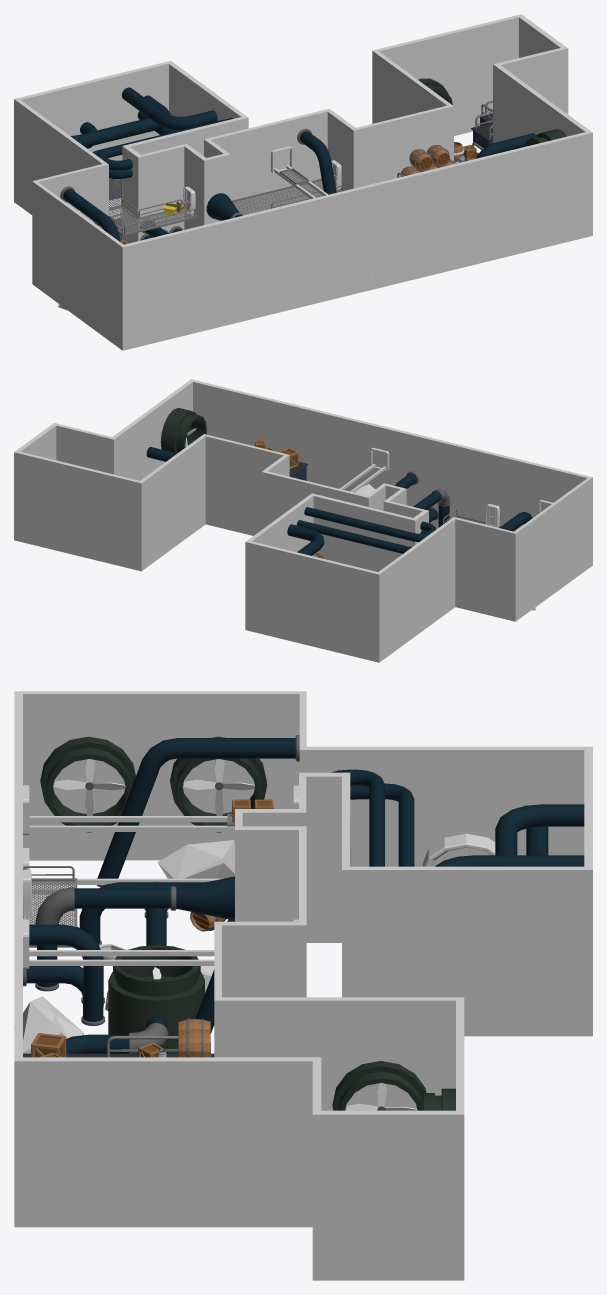
3 renders of one model, top to bottom at view 1: azimuth 30°, elevation 25°; view 2: azimuth 150°, elevation 25°; view 3: azimuth 270°, elevation 25°, orthographic. The views are drawn at different scales.
Parts seen in each view (by area): view 1: R3 Wall (BothSideDeleted), R3 Wall (Top), R3 Wall(Right), Pipe .038, Pipe .035, Cube.216, Pipe .023, Pipe .022, Cube.199, Pipe .033, Pipe .009, Pipe .021 (+2 smaller); view 2: R3 Wall (BothSideDeleted), R3 Wall (Top), R3 Wall(Right), Cylinder.031, Pipe .033, Pipe .034, Pipe .038, Pipe .009, Cube.226; view 3: R3 Wall (BothSideDeleted), R3 Wall(Right), Cylinder.036, Pipe .022, Pipe .009, Cylinder.024, Pipe .039, Pipe .021, Pipe .035, Icosphere.025, Cylinder.023, Cylinder.025 (+18 smaller).
Boxes of the visible parts, x1,y1,x2,y2 form: R3 Wall (BothSideDeleted): (14, 14, 592, 350); R3 Wall (Top): (18, 62, 168, 160); R3 Wall(Right): (166, 61, 245, 120); Pipe .038: (122, 87, 217, 130); Pipe .035: (70, 95, 170, 147); Cube.216: (232, 180, 343, 215); Pipe .023: (297, 128, 336, 194); Pipe .022: (60, 186, 120, 241); Cube.199: (109, 207, 194, 233); Pipe .033: (96, 117, 233, 170); Pipe .009: (206, 193, 243, 220); Pipe .021: (475, 133, 535, 158); R3 Wall (BothSideDeleted): (14, 379, 592, 662); R3 Wall (Top): (249, 541, 377, 661); R3 Wall(Right): (245, 495, 313, 630); Cylinder.031: (160, 408, 206, 453); Pipe .033: (304, 507, 436, 541); Pipe .034: (296, 520, 427, 553); Pipe .038: (287, 524, 324, 555); Pipe .009: (413, 488, 450, 527); Cube.226: (370, 447, 389, 471); R3 Wall (BothSideDeleted): (14, 691, 592, 1280); R3 Wall(Right): (350, 866, 592, 1036); Cylinder.036: (108, 945, 204, 1053); Pipe .022: (97, 735, 299, 887); Pipe .009: (35, 876, 234, 991); Cylinder.024: (40, 736, 135, 832); Pipe .039: (29, 924, 104, 1025); Pipe .021: (66, 882, 168, 1053); Pipe .035: (495, 804, 584, 855); Icosphere.025: (157, 840, 234, 878); Cylinder.023: (332, 1061, 426, 1110); Cylinder.025: (170, 736, 267, 832).
Bounding box in the file's own units: 14906 × 2967 × 8613.
